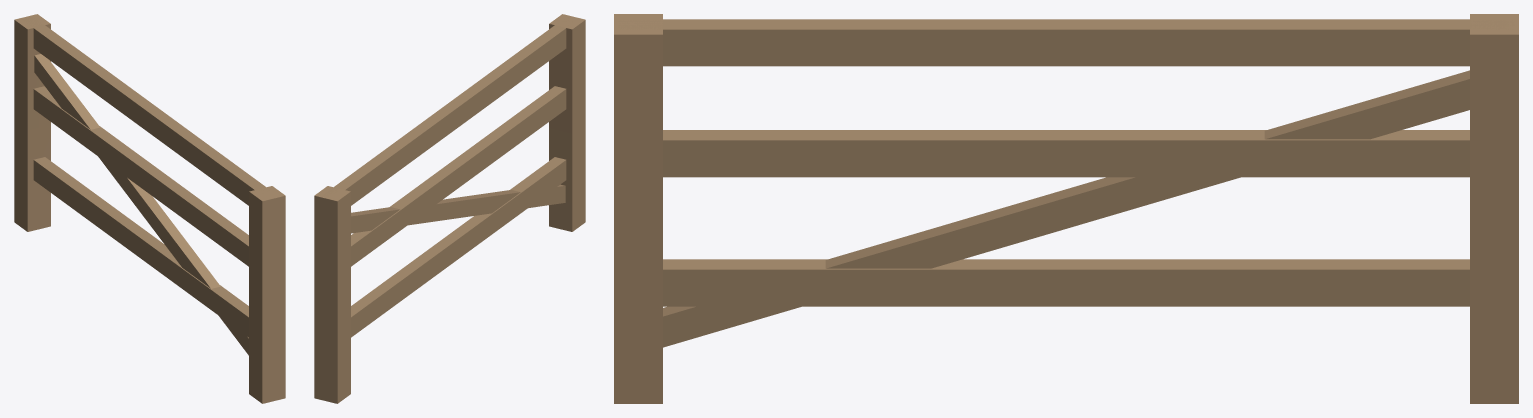
File: VPenFence.fbx
3 views of the same model, side by side, from view 1: azimuth 30°, elevation 25°; view 2: azimuth 150°, elevation 25°; view 3: azimuth 270°, elevation 25° (orthographic). The views are drawn at different scales.
Visible parts, largest first — view 1: VPenFence; view 2: VPenFence; view 3: VPenFence.
Boxes of the visible parts, bbox=[...] form: VPenFence: bbox=[14, 14, 285, 403]; VPenFence: bbox=[314, 14, 585, 403]; VPenFence: bbox=[614, 14, 1518, 403].
Bounding box in the file's own units: 0.12 × 1 × 2.22.
